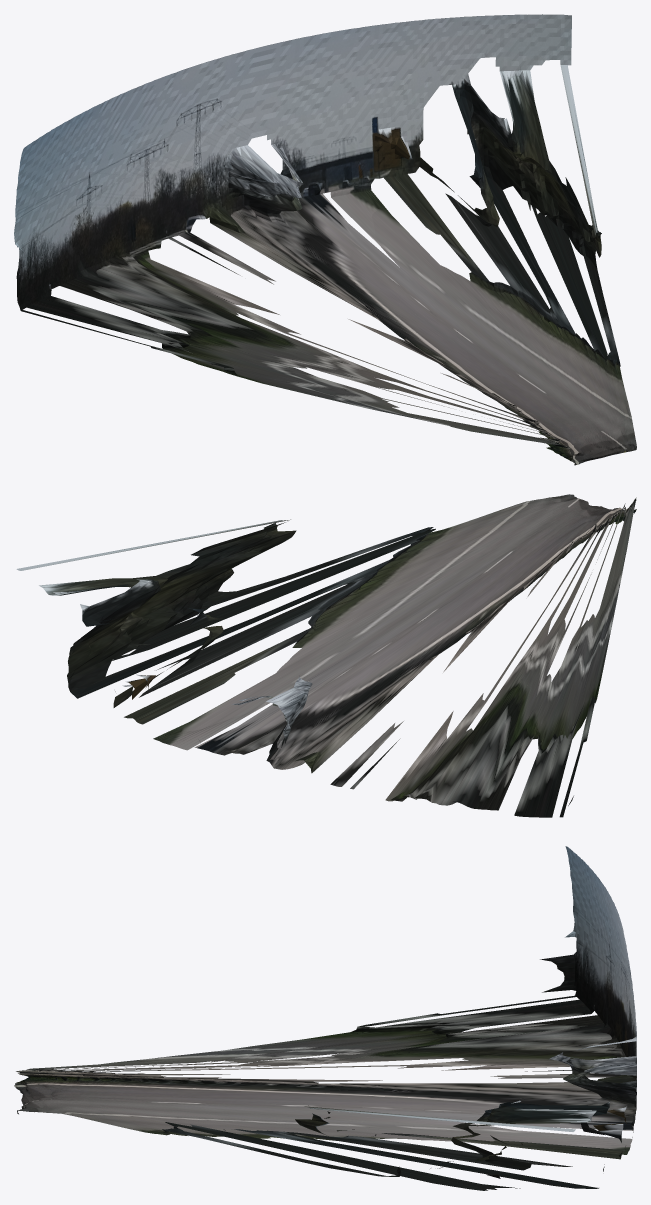
The picture shows the model from 3 angles, top to bottom: view 1: azimuth 30°, elevation 25°; view 2: azimuth 150°, elevation 25°; view 3: azimuth 270°, elevation 25°; orthographic projection. The views are drawn at different scales.
Parts seen in each view (by area): view 1: defaultobject; view 2: defaultobject; view 3: defaultobject.
Part boxes in pixels (x1=…): defaultobject: x1=14, y1=14, x2=636, y2=465; defaultobject: x1=16, y1=494, x2=636, y2=817; defaultobject: x1=14, y1=846, x2=636, y2=1190.
Size of the model in its own units: 41.02 by 12.85 by 44.61.
1 material, 1 textured.
